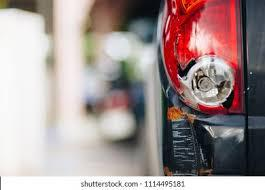Taillight-Damage: (162, 0, 254, 177)
